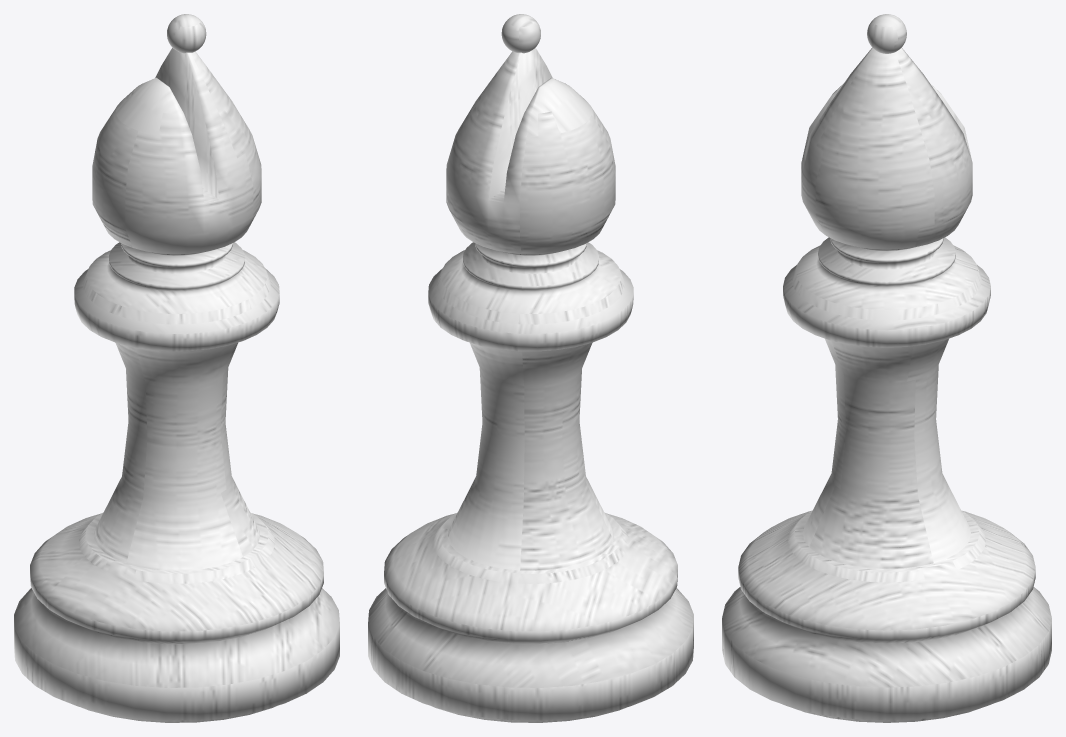
Rendered from bishop-white.fbx.
3 views of the same model, side by side, from view 1: azimuth 30°, elevation 25°; view 2: azimuth 150°, elevation 25°; view 3: azimuth 270°, elevation 25° (orthographic).
Parts seen in each view (by area): view 1: Bishop.001; view 2: Bishop.001; view 3: Bishop.001.
Part boxes in pixels (bbox=[...]): Bishop.001: bbox=[14, 14, 339, 722]; Bishop.001: bbox=[368, 14, 693, 722]; Bishop.001: bbox=[722, 14, 1051, 722].
Size of the model in its own units: 97.17 by 211 by 97.17.
1 material, 1 textured.
